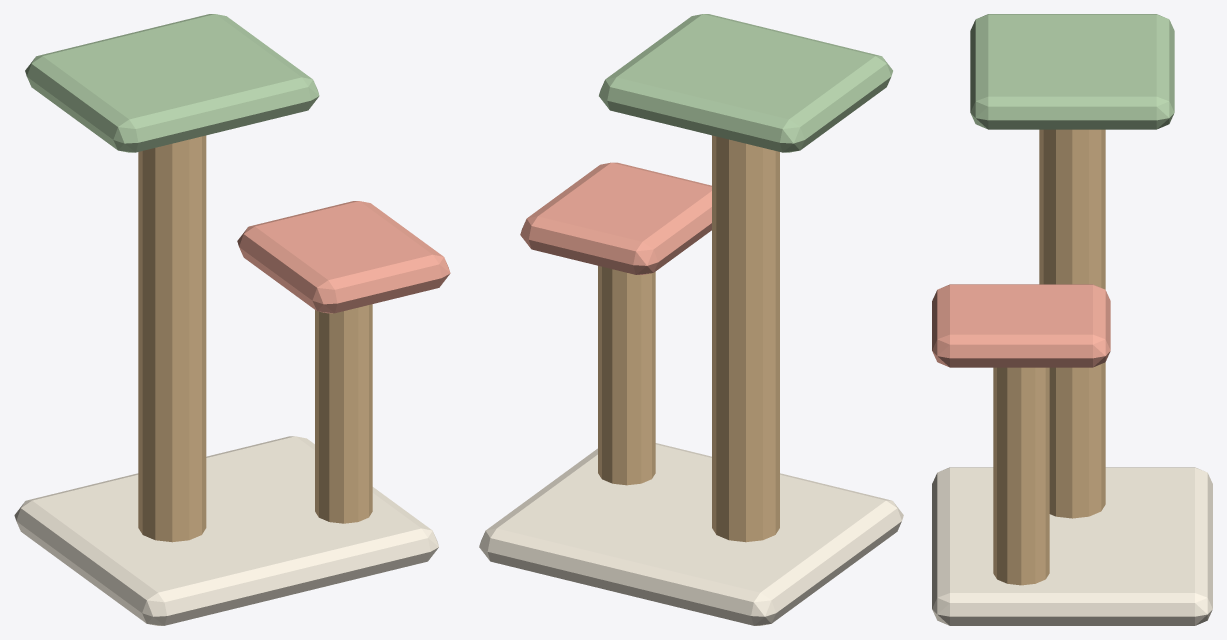
Rendered from cozy-home-interiors-cat-tree-8a4d2c84.glb.
The picture shows the model from 3 angles, left to right: view 1: azimuth 30°, elevation 25°; view 2: azimuth 150°, elevation 25°; view 3: azimuth 270°, elevation 25°; orthographic projection. The views are drawn at different scales.
Visible parts, largest first — view 1: cat-tree; view 2: cat-tree; view 3: cat-tree.
Boxes of the visible parts, x1=… form: cat-tree: x1=14, y1=14, x2=450, y2=625; cat-tree: x1=479, y1=14, x2=903, y2=625; cat-tree: x1=932, y1=14, x2=1212, y2=625.
Size of the model in its own units: 0.695 by 1.04 by 0.55.
